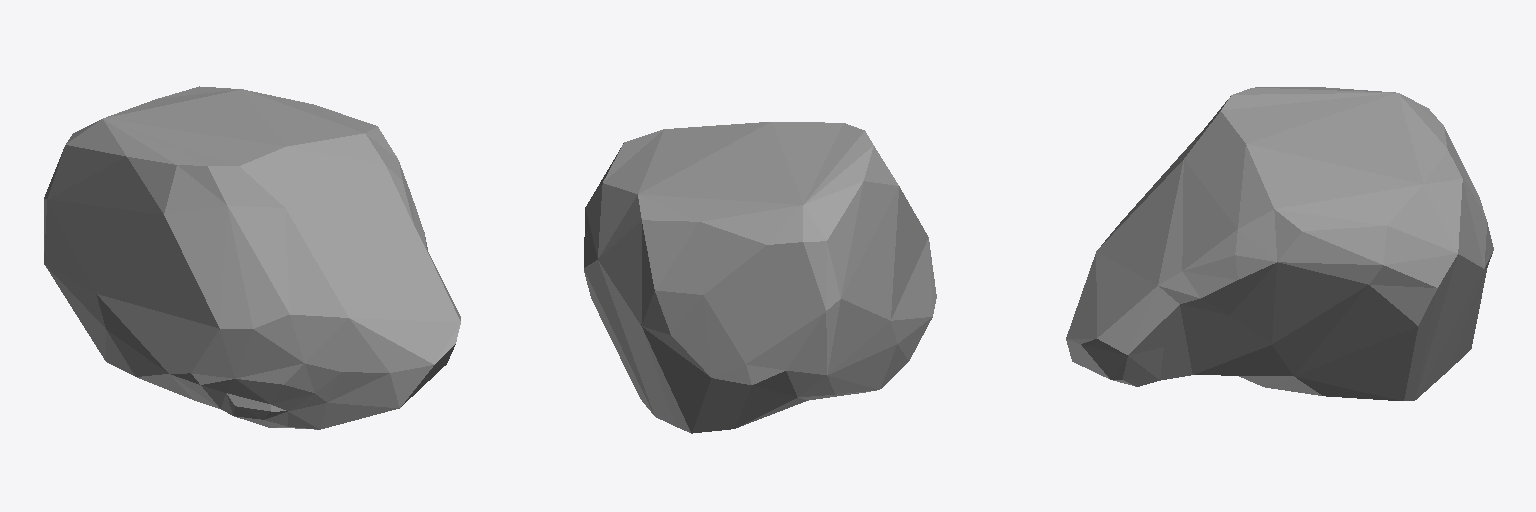
File: rock1.obj
3 views of the same model, side by side, from view 1: azimuth 30°, elevation 25°; view 2: azimuth 150°, elevation 25°; view 3: azimuth 270°, elevation 25° (orthographic).
Parts seen in each view (by area): view 1: rocks_6_00.001; view 2: rocks_6_00.001; view 3: rocks_6_00.001.
Part boxes in pixels (x1,y1,x2,y2): rocks_6_00.001: (44, 86, 460, 429); rocks_6_00.001: (584, 122, 936, 433); rocks_6_00.001: (1066, 87, 1493, 400).
Size of the model in its own units: 3.76 by 3.19 by 4.93.